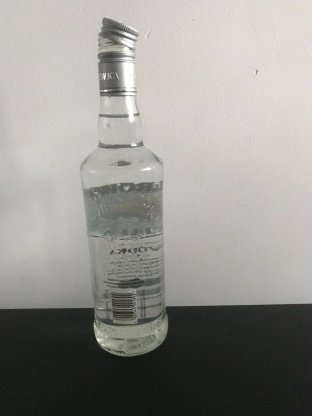nakretka: (95, 13, 140, 97)
